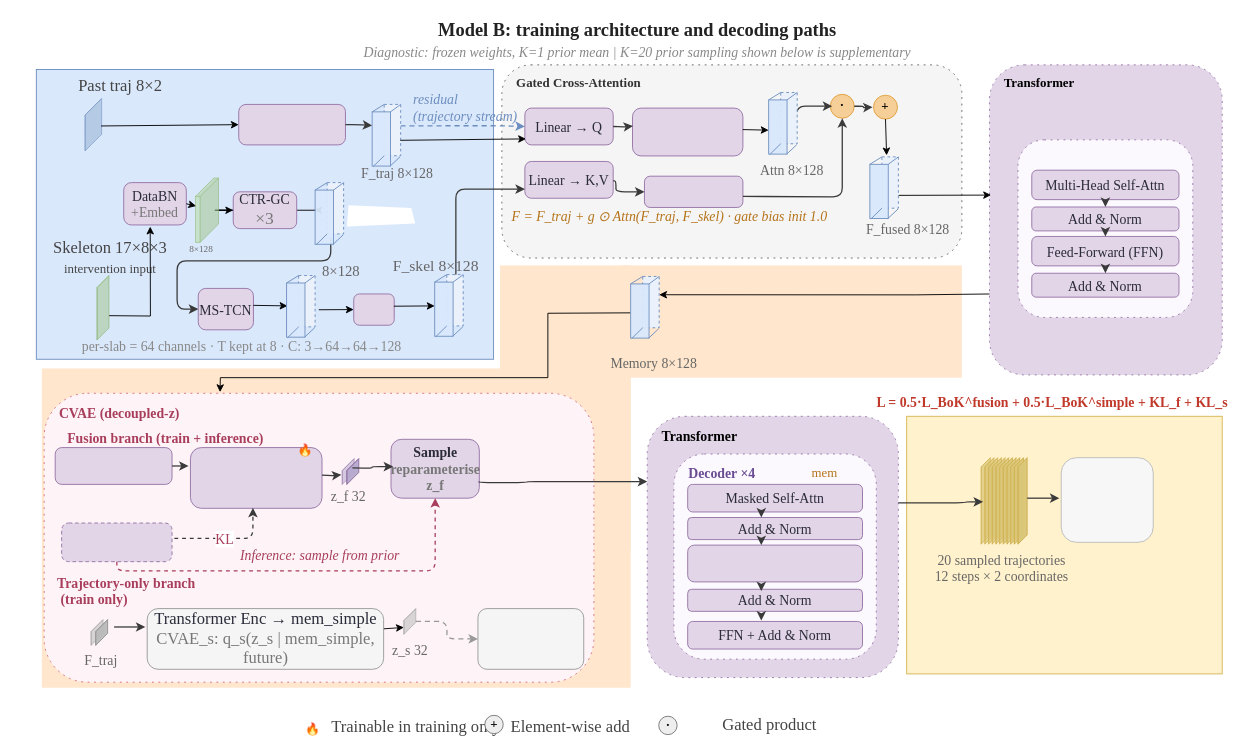
Image size: 1246x753. Some labels were removed from this diagram. The shapes that lost their labels are listed below. From the top down, each one's box as (x1, y1, x2, y2) in pixels, then its label:
(238, 104, 345, 145): Traj Embed Linear + ReLU
(632, 107, 743, 156): Scaled Dot-Attn softmax(QKᵀ/√d)V
(644, 175, 743, 207): Gate σ(·)
(345, 208, 411, 224): CTR-GCN
(1017, 139, 1193, 317): Encoder ×4
(353, 293, 394, 325): keep T=8
(54, 447, 172, 484): [ memory ; future ]
(190, 447, 322, 508): Posterior (train) q(z_f | memory, future)→μ,σ
(1060, 457, 1153, 542): Output 20 × 12 × 2
(61, 522, 172, 562): Prior p(z_f | memory)
(687, 544, 862, 582): Cross-Attn Q=dec, K,V=enc mem
(477, 608, 584, 669): Own decoder and train loss 0.5·L_simple + KL_s
